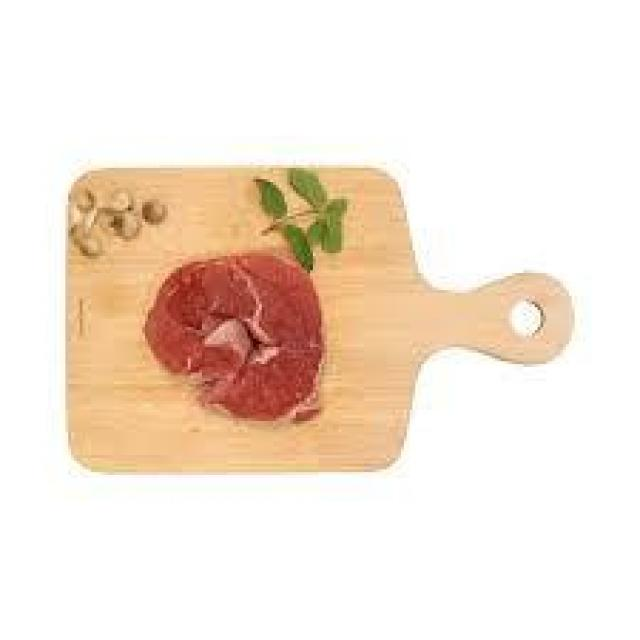beef: (137, 255, 349, 438)
